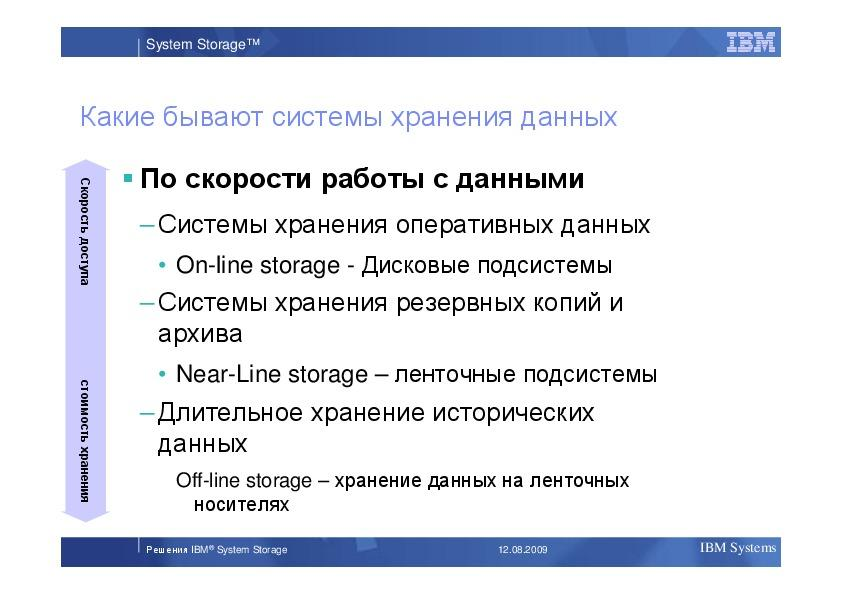paragraph: (109, 149, 761, 520)
subtitle: (70, 90, 644, 148)
title: (140, 25, 274, 62)
